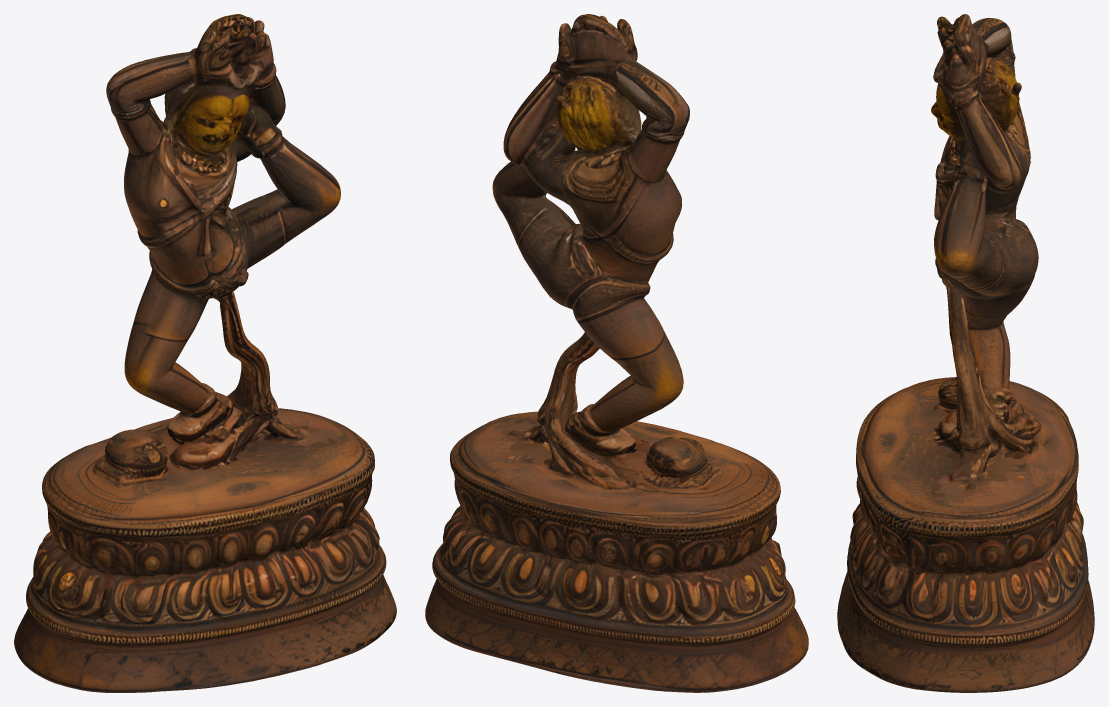
3 renders of one model, left to right at view 1: azimuth 30°, elevation 25°; view 2: azimuth 150°, elevation 25°; view 3: azimuth 270°, elevation 25°, orthographic.
Parts seen in each view (by area): view 1: textured_mesh; view 2: textured_mesh; view 3: textured_mesh.
Boxes of the visible parts, box(x1,y1,x2,y2) form: textured_mesh: box(14, 14, 396, 692); textured_mesh: box(425, 14, 808, 692); textured_mesh: box(837, 14, 1094, 692).
Bounding box in the file's own units: 1.18 × 1.99 × 0.7636.
1 material, 1 textured.
